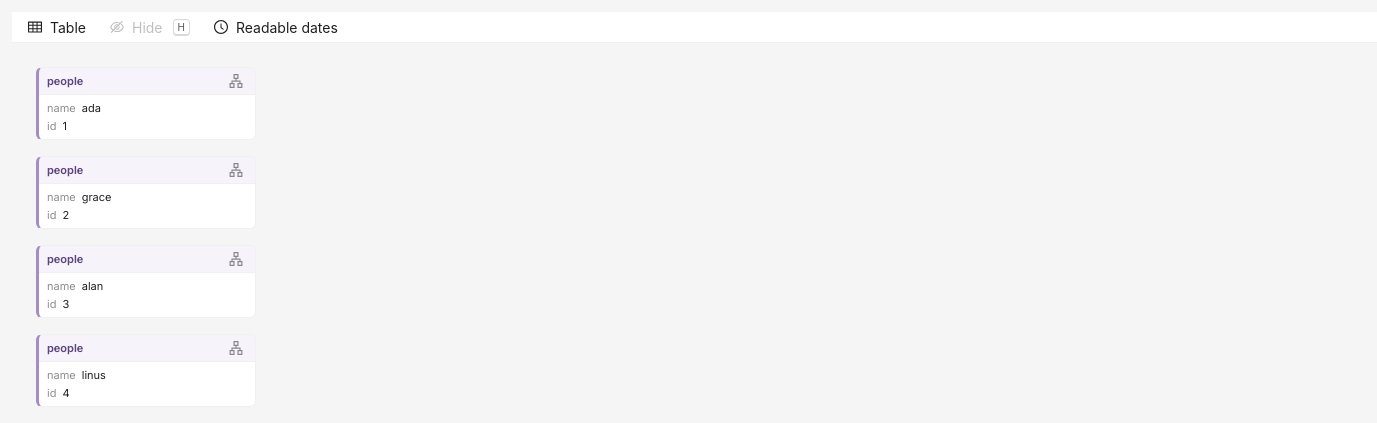
shift-click picks every card from the one clicked before down to it, ready to hide in one go
Click the element named "people 1".
click(146, 104)  # box 36,67 -> 256,140
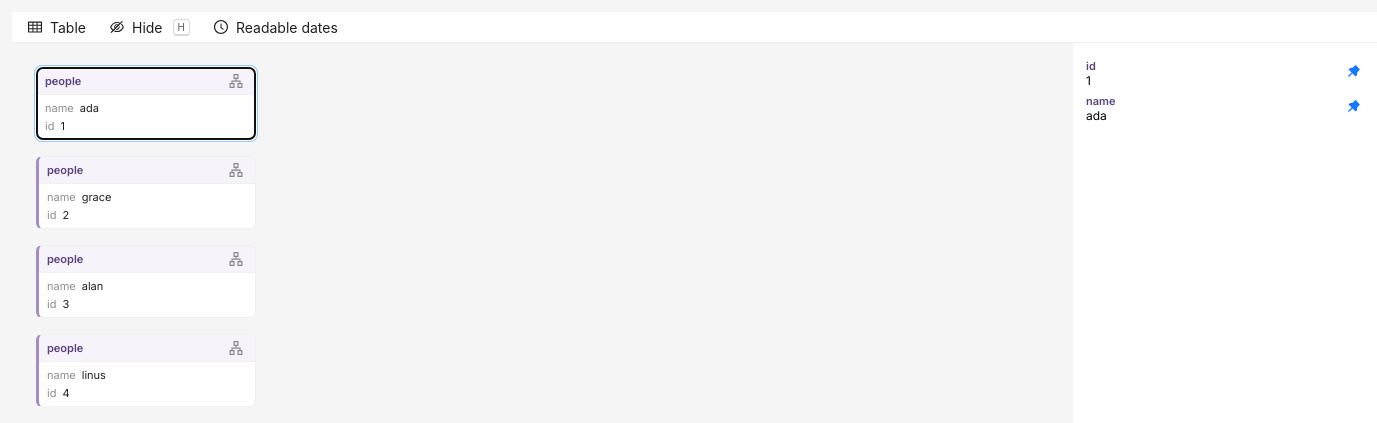
Type keys "{Shift>}"
Click the element named "people 3".
click(146, 282)  # box 36,245 -> 256,318
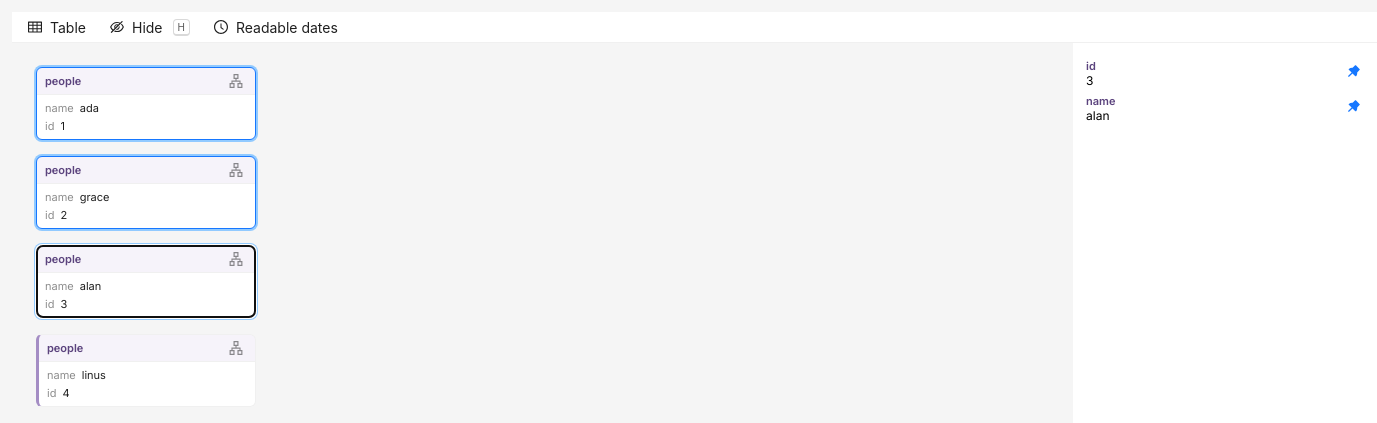
Type keys "{/Shift}"
Type keys "{Shift>}"
Click the element named "people 2".
click(146, 192)  # box 36,156 -> 256,229
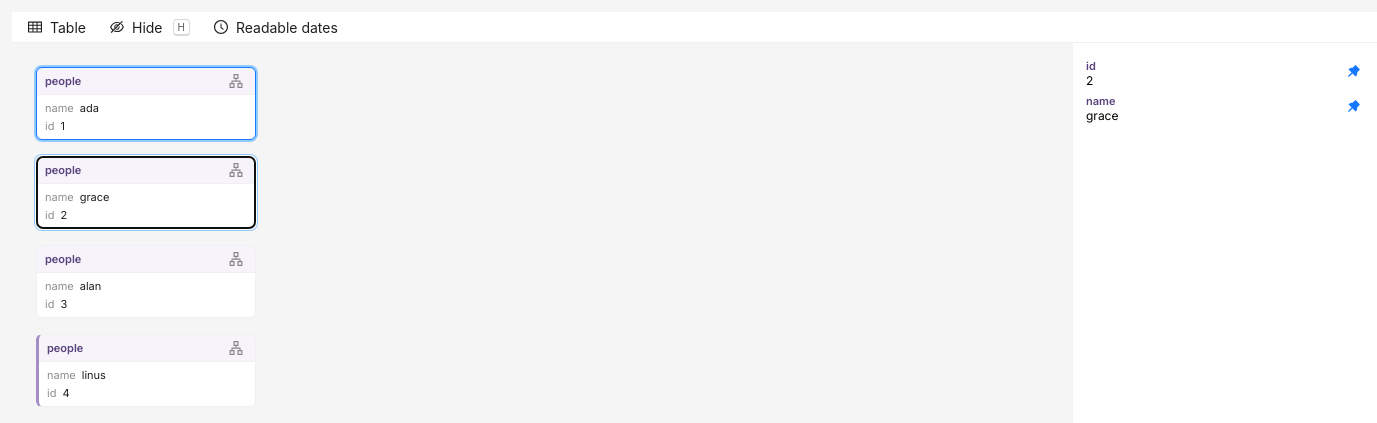
Type keys "{/Shift}"
Check: the element named "people 3" does not have attribute aria-current, box 36,245 -> 256,318
Type keys "h"
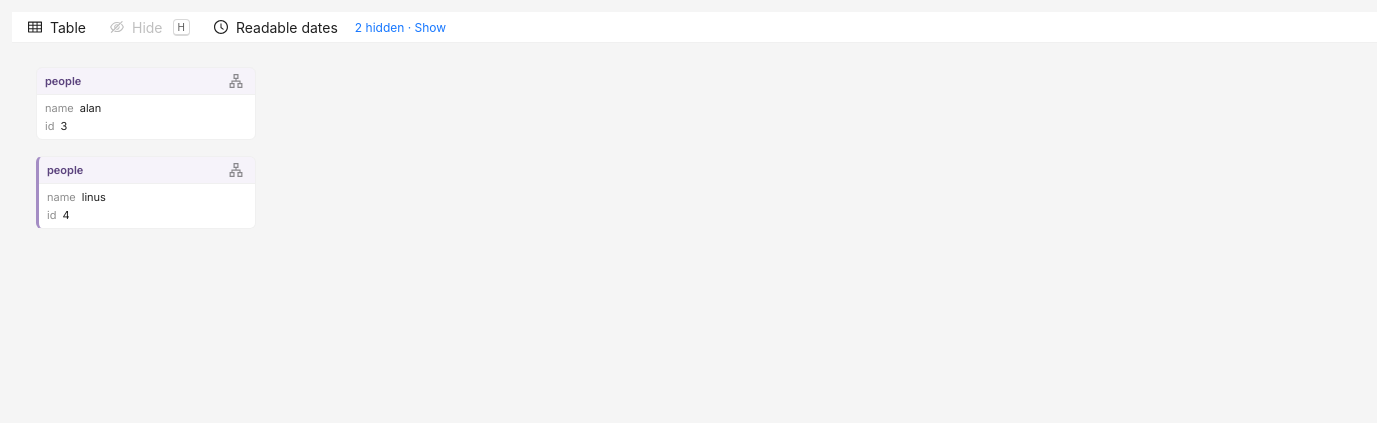
Check: the element named "people 3" is shown, box 36,67 -> 256,140
Check: the button "2 hidden · Show" is shown, box 354,15 -> 447,39
